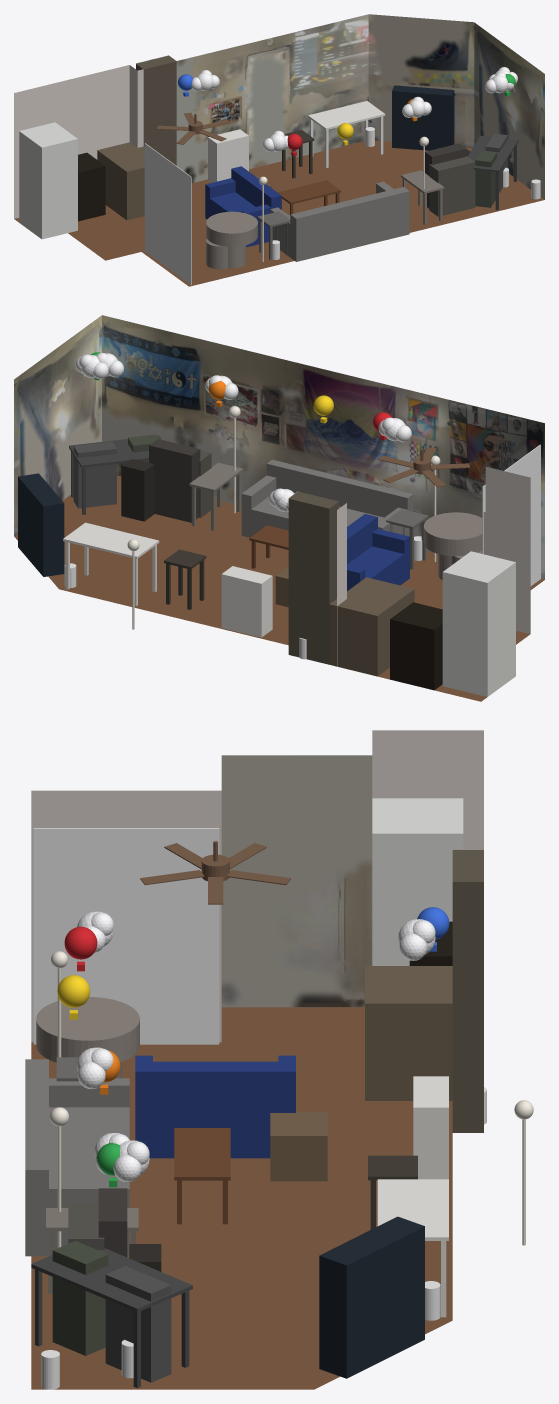
The model's file is ney_room_clean.glb.
3 renders of one model, top to bottom at view 1: azimuth 30°, elevation 25°; view 2: azimuth 150°, elevation 25°; view 3: azimuth 270°, elevation 25°, orthographic. The views are drawn at different scales.
Parts seen in each view (by area): view 1: Wall 7, Floor, Wall 8, Wall 1, Wall 9, Gray couch, Fridge, Mirror (closet doors), Fireplace, Water heater, Kitchen counter, Blue couch (+21 smaller); view 2: Wall 10, Floor, Wall 9, Fridge, Water heater, Gray couch, Kitchen counter, Stove + microwave, Fireplace, Wall 12, Blue couch, Roli (+18 smaller); view 3: Floor, Wall 13, Mirror (closet doors), Fireplace, Blue couch, Gray couch, Fridge, Kitchen counter, Water heater, Wall 15, Wall 11, Elektrons + Evil Pet (+21 smaller).
Boxes of the visible parts, x1,y1,x2,y2 form: Wall 7: (176, 14, 368, 182); Floor: (14, 140, 544, 286); Wall 8: (368, 14, 474, 147); Wall 1: (14, 65, 129, 218); Wall 9: (474, 22, 544, 199); Gray couch: (270, 181, 409, 261); Fridge: (19, 122, 77, 239); Mirror (closet doors): (144, 143, 191, 284); Fireplace: (392, 85, 454, 150); Water heater: (136, 55, 176, 165); Kitchen counter: (97, 142, 144, 220); Blue couch: (205, 166, 281, 247); Wall 10: (102, 315, 544, 579); Floor: (14, 475, 544, 701); Wall 9: (14, 315, 101, 535); Fridge: (442, 551, 515, 696); Water heater: (288, 491, 339, 664); Gray couch: (241, 459, 413, 537); Kitchen counter: (329, 577, 414, 676); Stove + microwave: (390, 602, 442, 690); Fireplace: (18, 473, 64, 576); Wall 12: (485, 466, 530, 634); Blue couch: (347, 514, 409, 590); Roli: (149, 439, 200, 522); Floor: (31, 1007, 452, 1389); Wall 13: (221, 755, 372, 1007); Mirror (closet doors): (33, 828, 219, 1044); Fireplace: (319, 1216, 424, 1378); Blue couch: (135, 1055, 295, 1158); Gray couch: (25, 1059, 129, 1256); Fridge: (372, 798, 463, 965); Kitchen counter: (365, 966, 452, 1100); Water heater: (452, 850, 483, 1132); Wall 15: (372, 730, 483, 848); Wall 11: (31, 790, 221, 1042); Elektrons + Evil Pet: (105, 1266, 171, 1382).
Bounding box in the file's own units: 8.23 × 2.37 × 4.34.
58 materials, 15 textured.
